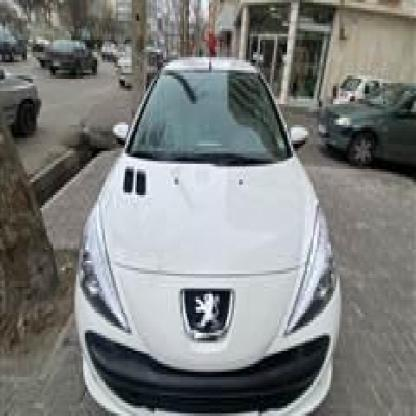Car: (83, 49, 338, 416), (328, 86, 416, 166), (0, 63, 43, 139), (43, 31, 102, 76), (114, 44, 156, 90), (332, 70, 384, 106)
